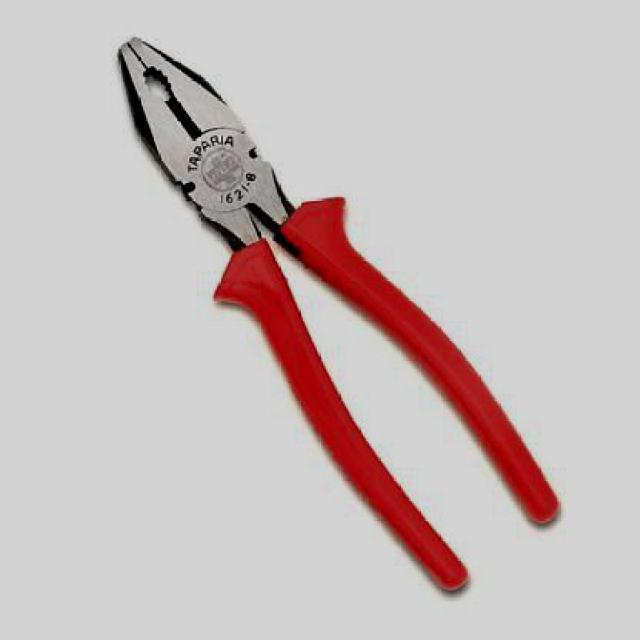pliers: (116, 36, 564, 595)
